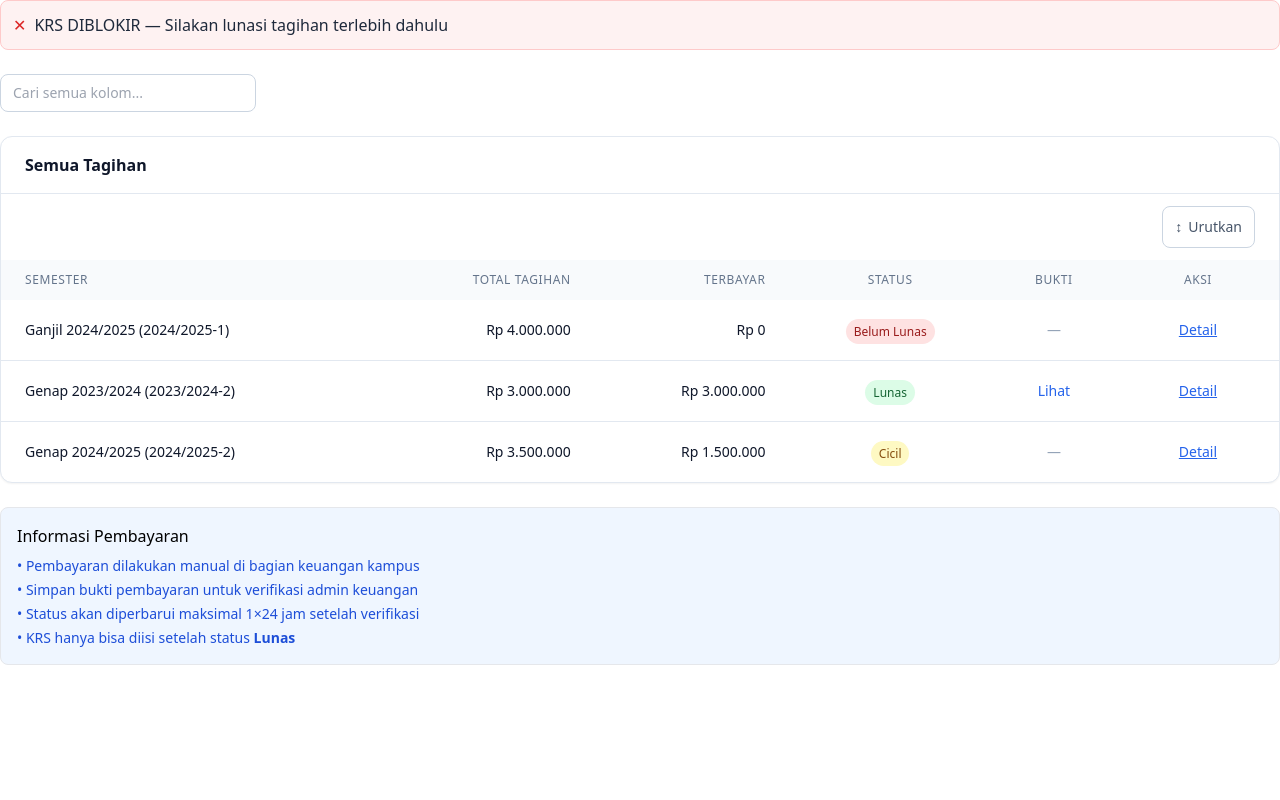
MyPaymentPage (T2.6) - All semesters table › modal lunas → tampilkan link bukti pembayaran
The width and height of the screenshot is (1280, 800).
Expected: the text "Ganjil 2024/2025 (2024/2025-1)" is shown, [1,300,380,360]
// Klik Detail pada baris lunas (Genap 2023/2024)
Click the button "Detail" in the row of "Genap 2023/2024".
click(1198, 391)  # box [1167,377,1229,405]
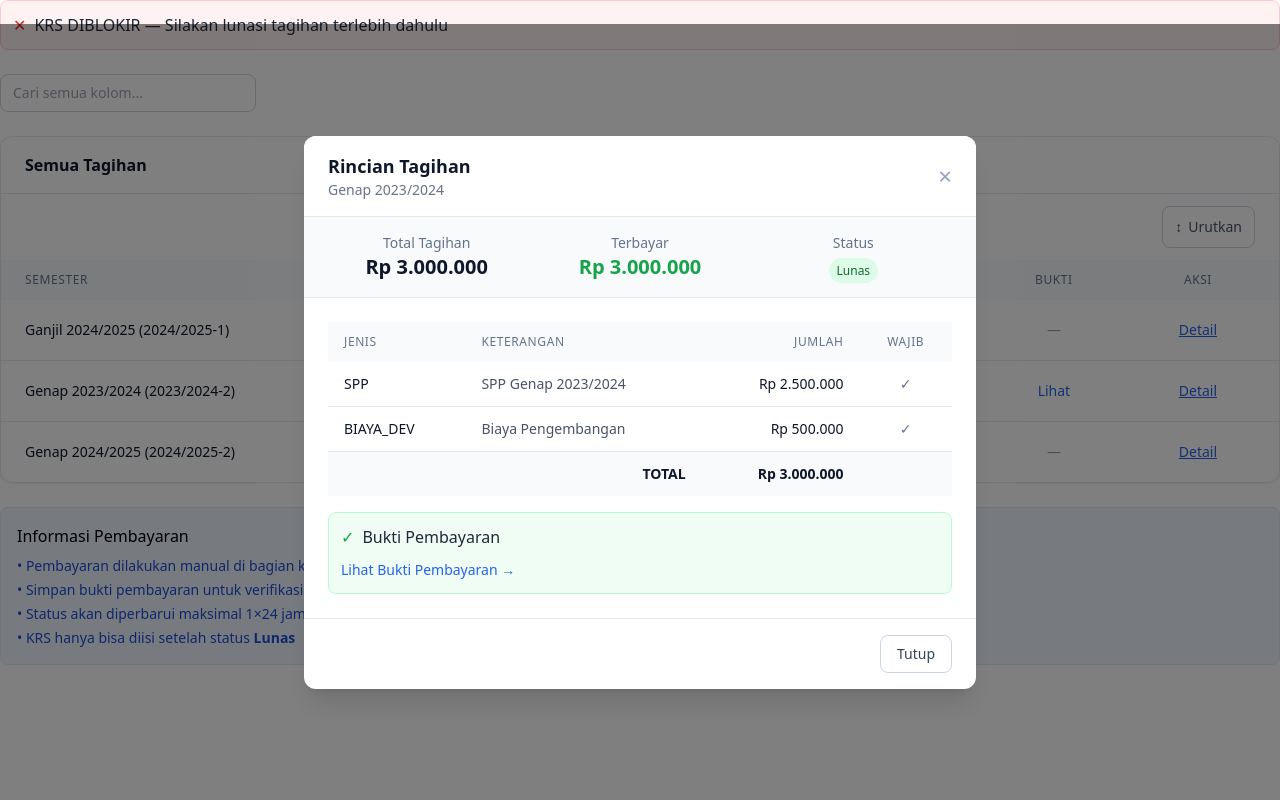
Result: the text "Bukti Pembayaran" is shown at [362,524,500,548]
